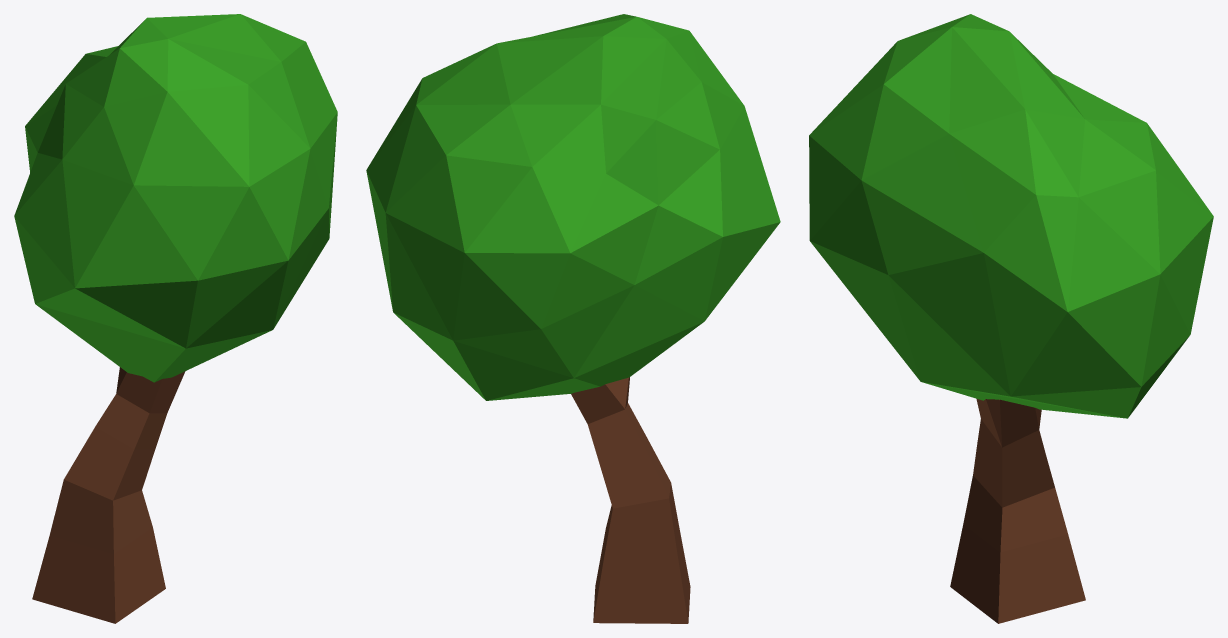
Rendered from GreenTree4.fbx.
3 renders of one model, left to right at view 1: azimuth 30°, elevation 25°; view 2: azimuth 150°, elevation 25°; view 3: azimuth 270°, elevation 25°, orthographic. The views are drawn at different scales.
Parts seen in each view (by area): view 1: LemonTree1.002; view 2: LemonTree1.002; view 3: LemonTree1.002.
Boxes of the visible parts, x1,y1,x2,y2 form: LemonTree1.002: (14,14,337,623); LemonTree1.002: (366,14,780,623); LemonTree1.002: (809,14,1213,623).
Bounding box in the file's own units: 207 × 331 × 207.
